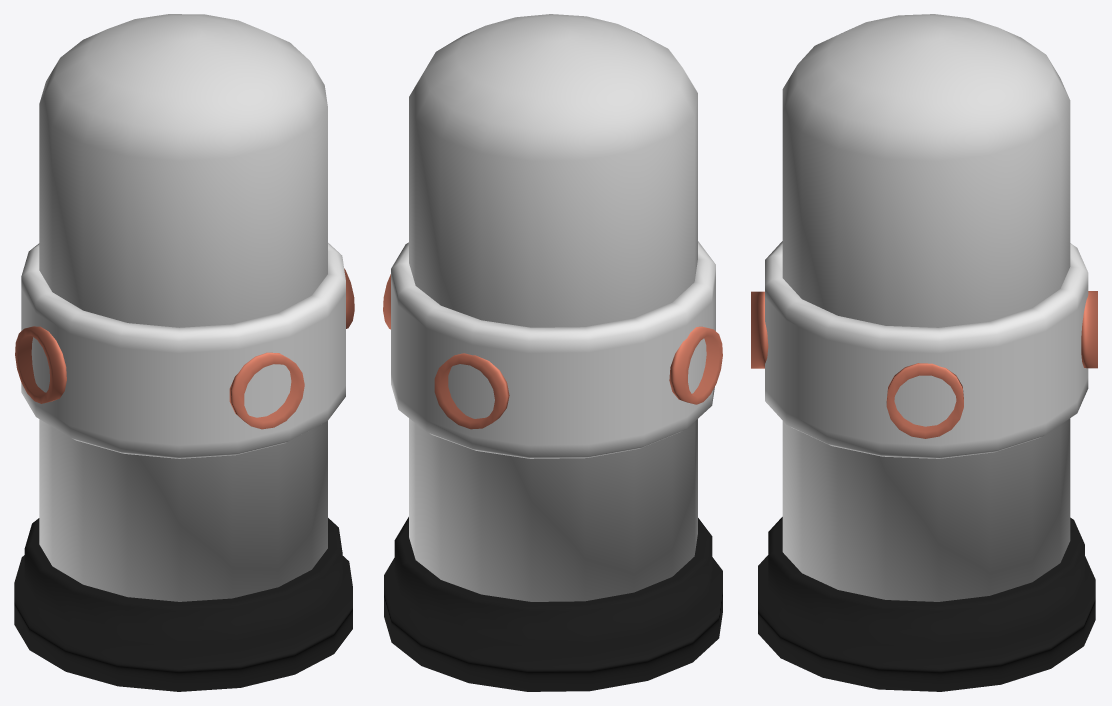
Rendered from Tankki3.fbx.
3 renders of one model, left to right at view 1: azimuth 30°, elevation 25°; view 2: azimuth 150°, elevation 25°; view 3: azimuth 270°, elevation 25°, orthographic.
Parts seen in each view (by area): view 1: Cylinder.002, Cylinder.003, Cylinder.005, Cylinder.006; view 2: Cylinder.002, Cylinder.003, Cylinder.006, Cylinder.004; view 3: Cylinder.002, Cylinder.003, Cylinder.007, Cylinder.005, Cylinder.004.
Boxes of the visible parts, bbox=[...] form: Cylinder.002: bbox=[21, 14, 345, 601]; Cylinder.003: bbox=[14, 518, 352, 691]; Cylinder.005: bbox=[229, 352, 304, 429]; Cylinder.006: bbox=[15, 326, 66, 403]; Cylinder.002: bbox=[391, 14, 715, 601]; Cylinder.003: bbox=[384, 517, 722, 691]; Cylinder.006: bbox=[669, 326, 722, 404]; Cylinder.004: bbox=[434, 353, 509, 429]; Cylinder.002: bbox=[765, 14, 1088, 601]; Cylinder.003: bbox=[758, 517, 1095, 691]; Cylinder.007: bbox=[886, 363, 963, 438]; Cylinder.005: bbox=[751, 291, 768, 368]; Cylinder.004: bbox=[1081, 291, 1097, 368].
Size of the model in its own units: 101 by 187 by 100.
